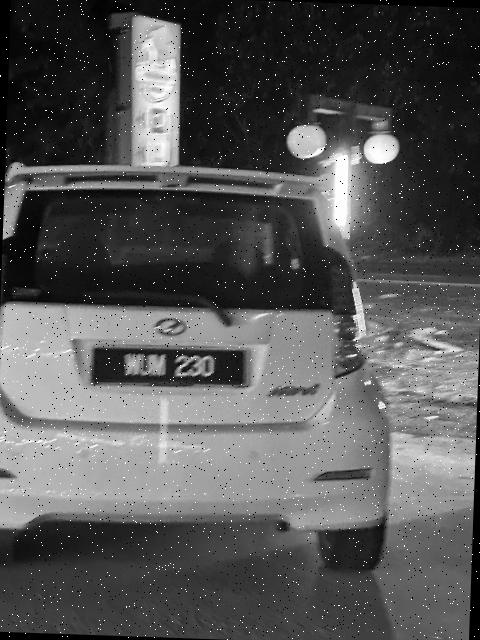License_Plate: (86, 339, 251, 397)
car: (1, 140, 410, 576)
